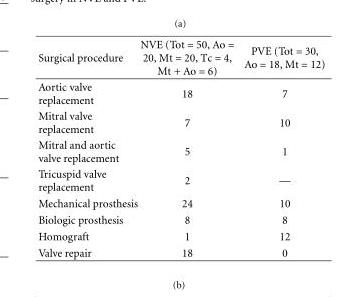table: (37, 37, 324, 258)
table column: (37, 37, 138, 258), (138, 37, 238, 258), (238, 37, 324, 258)
table column header: (37, 37, 324, 78)
table row: (37, 37, 324, 78), (37, 78, 324, 107), (37, 107, 324, 136), (37, 136, 324, 165), (37, 165, 324, 194), (37, 194, 324, 211), (37, 227, 324, 244), (37, 211, 324, 227), (37, 244, 324, 258)
